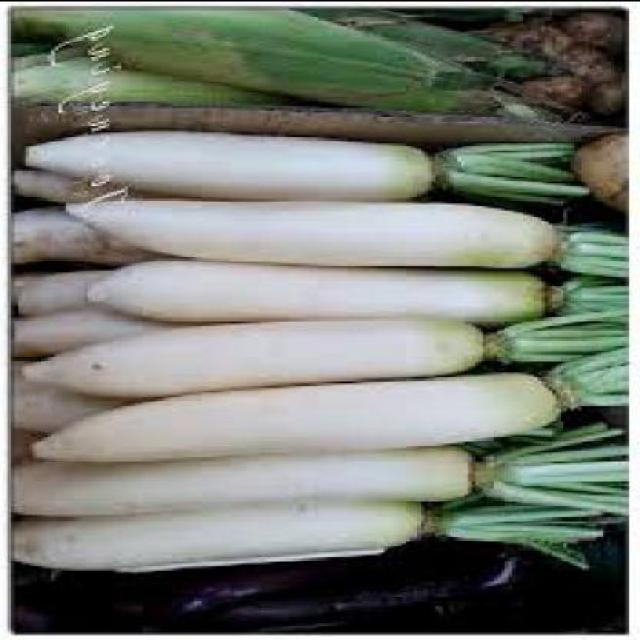BIODEGRADABLE: (19, 11, 566, 120), (18, 540, 560, 638), (41, 371, 567, 467), (69, 200, 563, 269), (33, 320, 501, 391), (95, 260, 556, 325), (22, 133, 443, 202), (11, 460, 482, 518), (11, 515, 435, 574), (300, 11, 560, 80), (11, 49, 311, 105), (476, 420, 632, 515), (435, 487, 607, 571), (15, 360, 157, 438), (438, 147, 590, 207), (14, 311, 200, 360), (491, 313, 632, 369), (15, 207, 142, 267), (15, 169, 190, 206), (19, 271, 124, 320), (553, 353, 636, 409), (578, 134, 633, 211), (556, 225, 633, 280), (556, 276, 633, 322), (504, 18, 578, 56), (563, 13, 629, 47), (527, 76, 596, 106), (563, 46, 622, 80), (589, 78, 629, 118), (14, 428, 48, 462)
